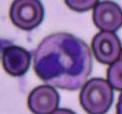N: (34, 31, 92, 90)
